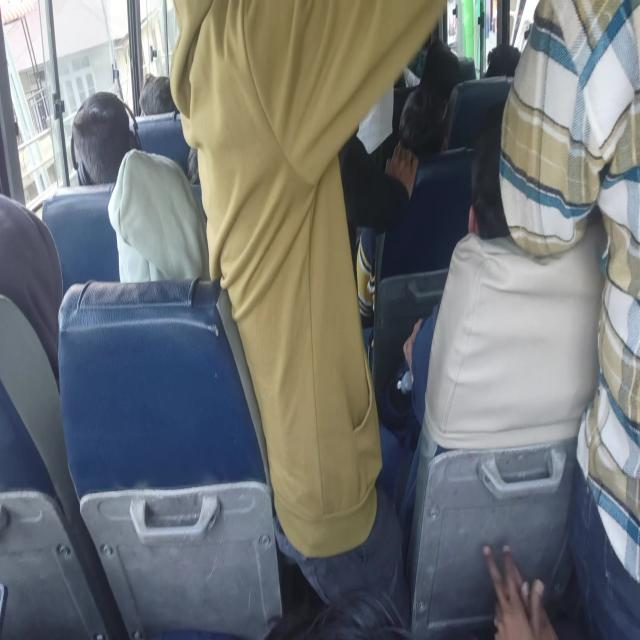person: (178, 0, 373, 440), (511, 6, 640, 640), (122, 162, 212, 322), (484, 108, 546, 255), (0, 224, 50, 375), (405, 90, 451, 174), (487, 30, 544, 94), (140, 66, 178, 149), (428, 30, 473, 99), (72, 88, 110, 162)
